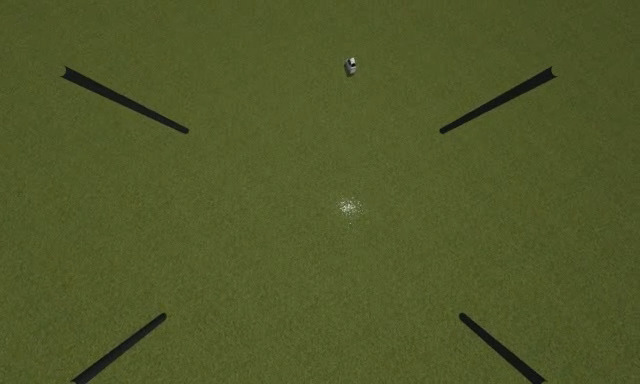Car: (344, 57, 358, 75)
